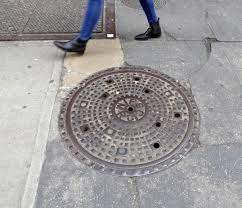closed manhole-not overflowing-: (58, 67, 201, 178)
